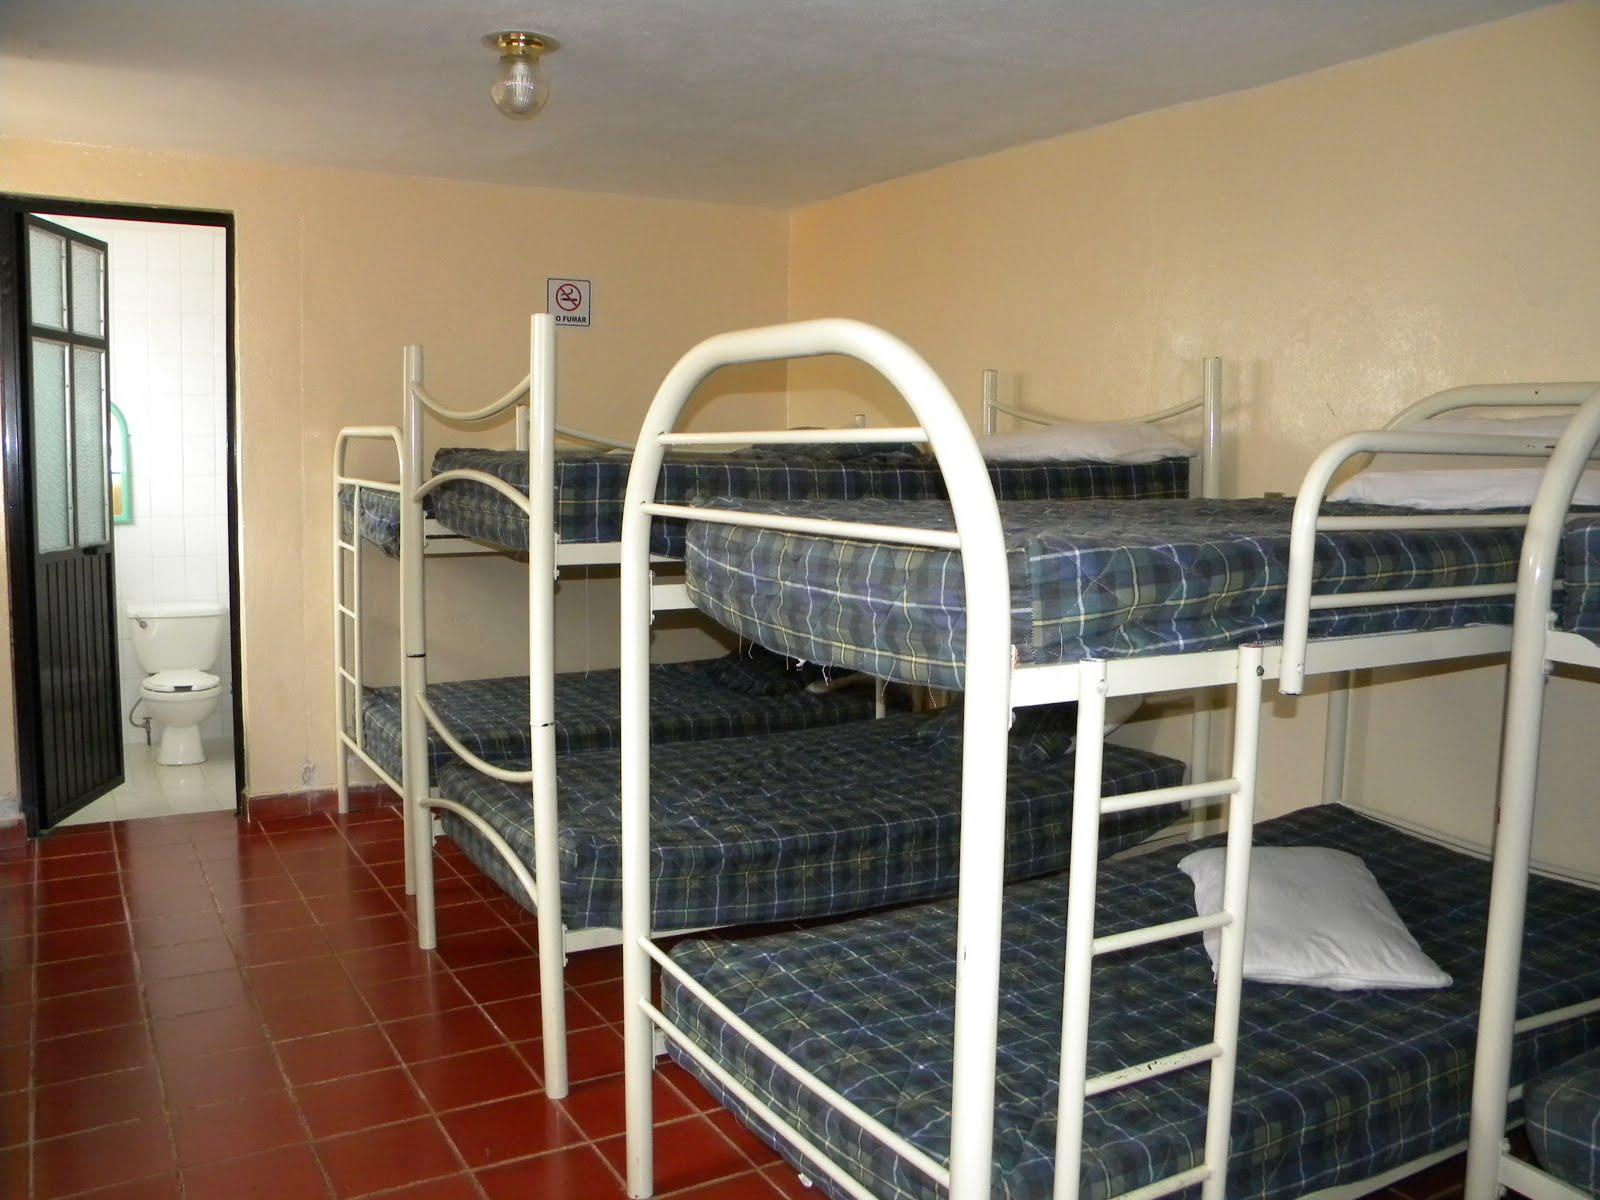bed: (780, 447, 1513, 700)
